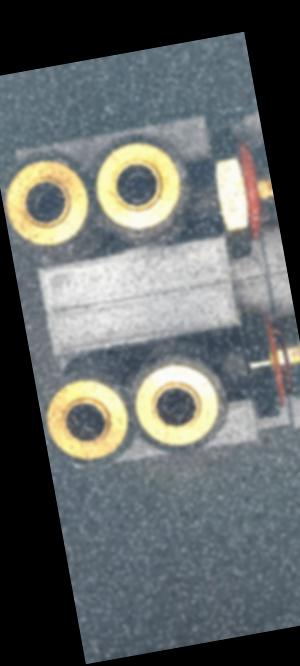bump: (175, 169, 192, 193), (166, 207, 181, 221)
off-centered: (151, 383, 199, 427), (64, 399, 106, 437)
white mark: (206, 183, 218, 195)
